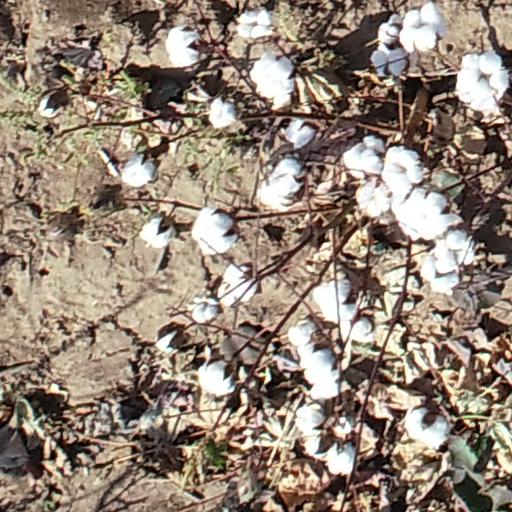Boll: (392, 188, 453, 240), (456, 53, 509, 109), (257, 158, 304, 208), (193, 206, 235, 254), (300, 346, 338, 398), (383, 144, 418, 199), (400, 6, 444, 48), (404, 405, 450, 445), (250, 54, 293, 95), (342, 136, 383, 176), (314, 281, 357, 319), (219, 262, 256, 303), (436, 233, 476, 270), (199, 358, 235, 395), (420, 259, 459, 293), (165, 29, 199, 66), (355, 178, 389, 215), (121, 155, 157, 188), (372, 45, 409, 77), (139, 215, 175, 247), (286, 319, 325, 348), (322, 442, 356, 475), (293, 401, 327, 432), (236, 11, 271, 37), (208, 96, 235, 129), (375, 15, 404, 45), (157, 324, 185, 353), (285, 118, 314, 146), (37, 92, 67, 118), (192, 297, 220, 323), (343, 317, 374, 340), (304, 434, 332, 456)
